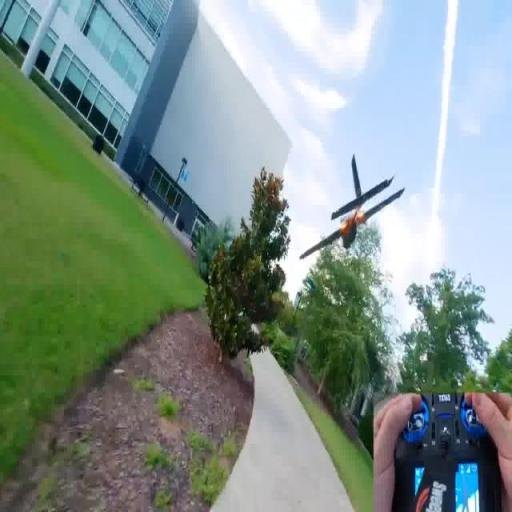uav: (298, 153, 407, 266)
